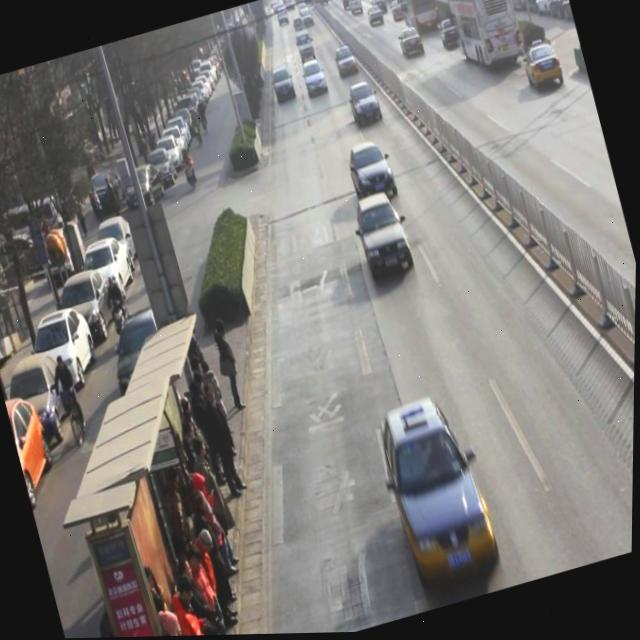car: (374, 392, 507, 593), (351, 191, 418, 285), (345, 140, 400, 210), (520, 43, 566, 97), (345, 80, 384, 131), (299, 58, 330, 101), (269, 66, 298, 105), (397, 28, 426, 63), (332, 45, 359, 82), (437, 18, 465, 53)
van: (438, 0, 527, 79), (391, 0, 443, 42)
